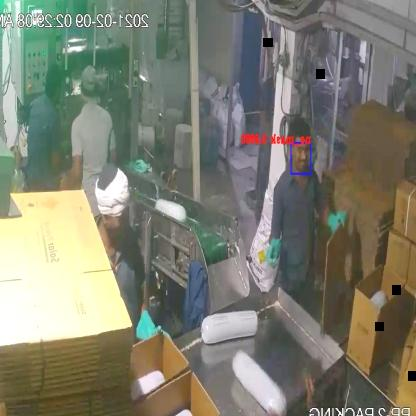glove: (137, 306, 173, 353), (263, 236, 292, 270), (323, 209, 353, 238)
no_glove: (54, 151, 88, 199)
